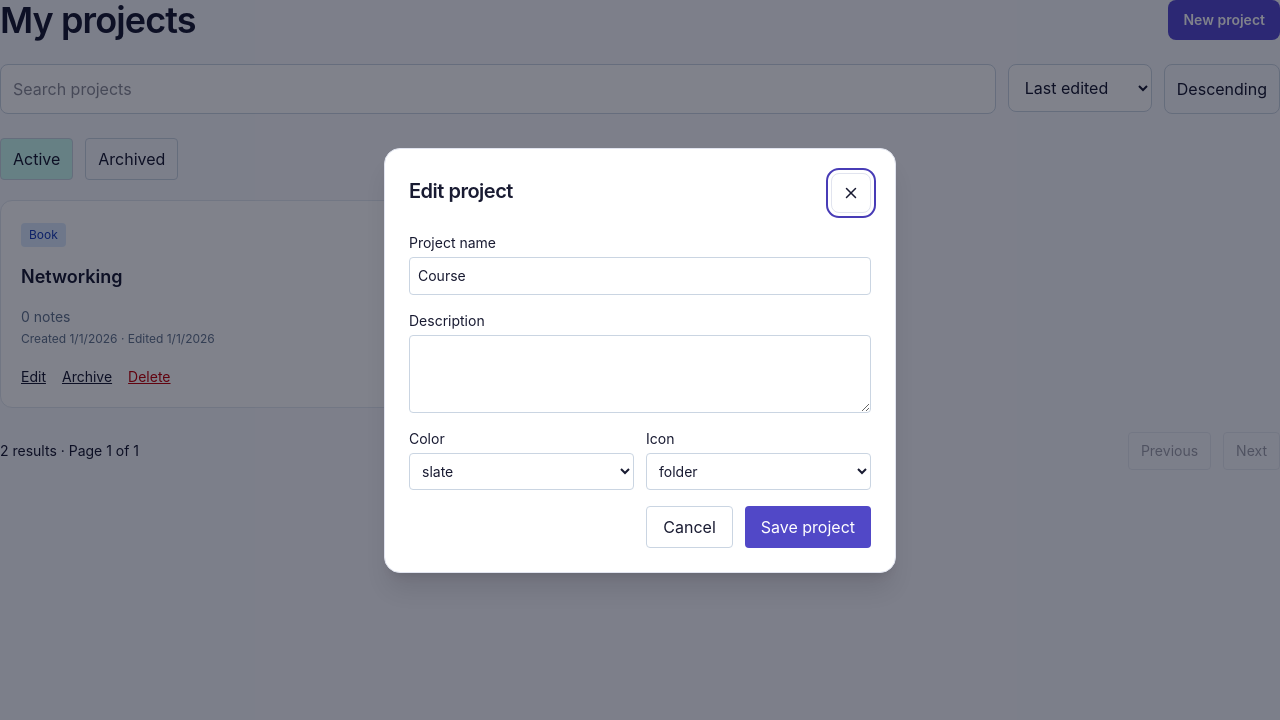
Test: creates and edits projects with cache invalidation, then archives and restores
This screenshot has width=1280, height=720.
Earlier steps of the test are not shown.
Replace the text in the field labelled "Project name" with "Renamed course": (640, 276) [409,256,871,294]
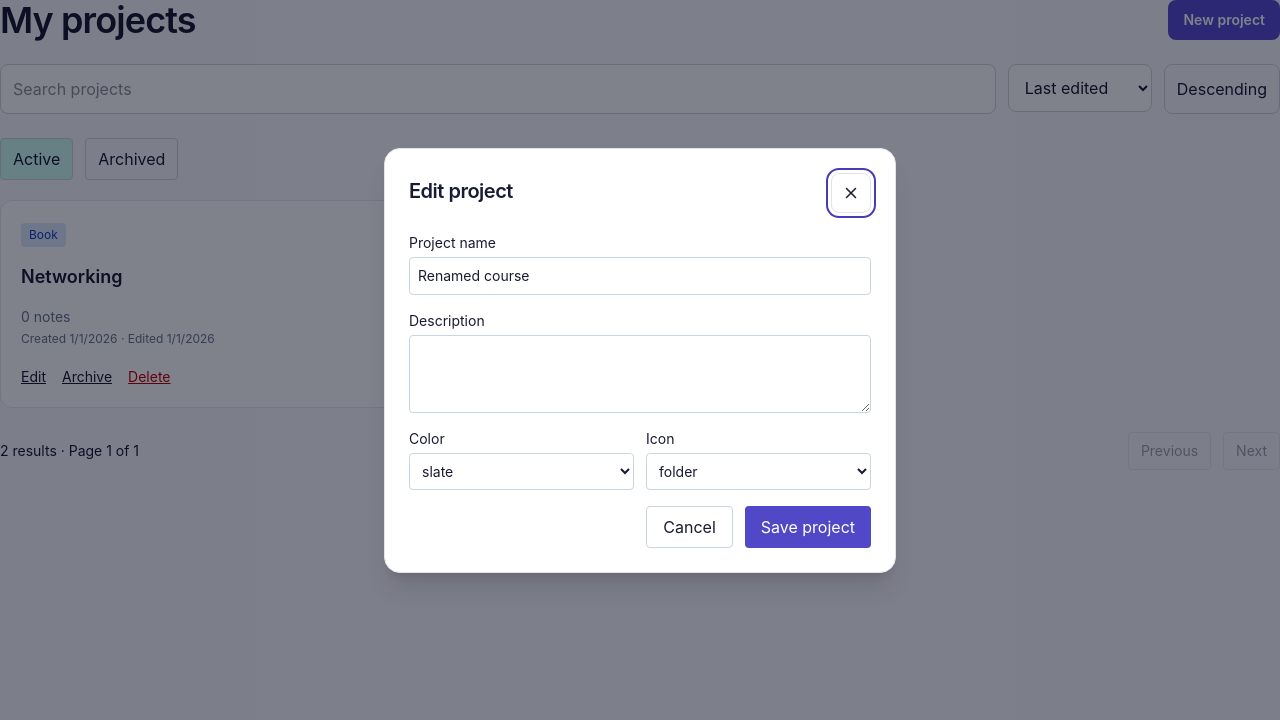
Click the button "Save project": (808, 526) [745,506,871,548]
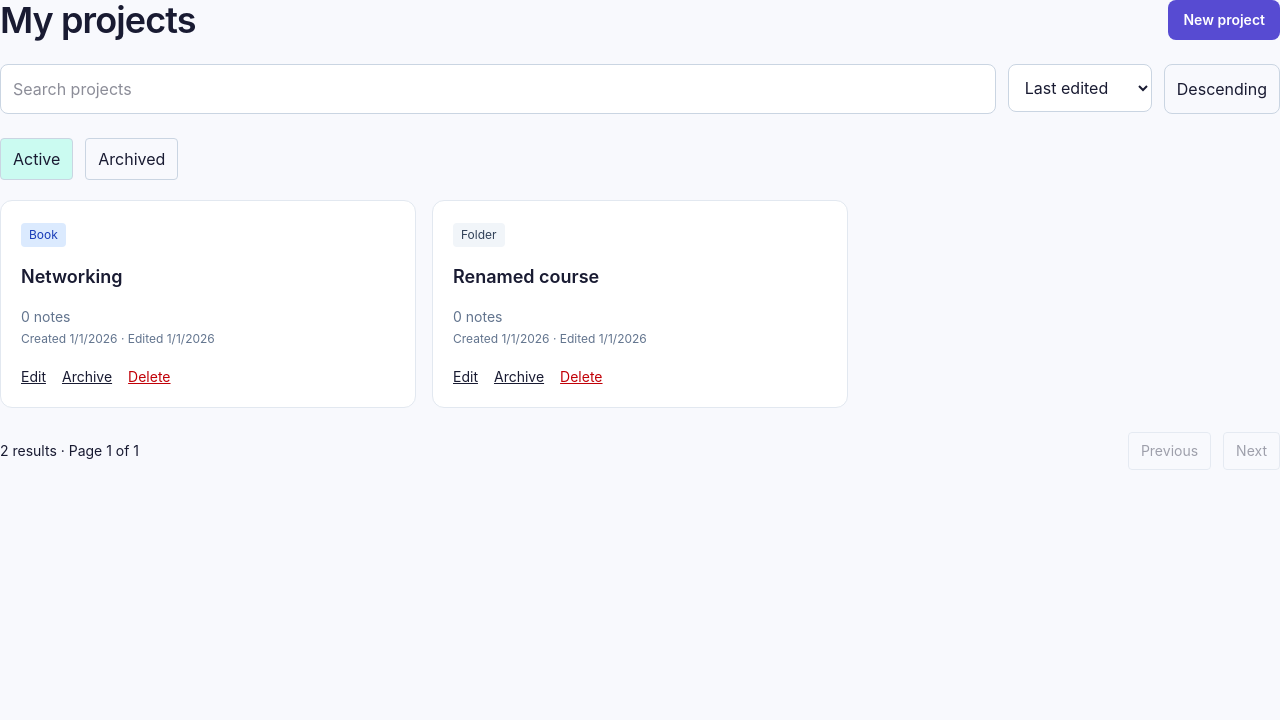
Click the button "Archive" below "Renamed course": (519, 377) [494,367,544,387]
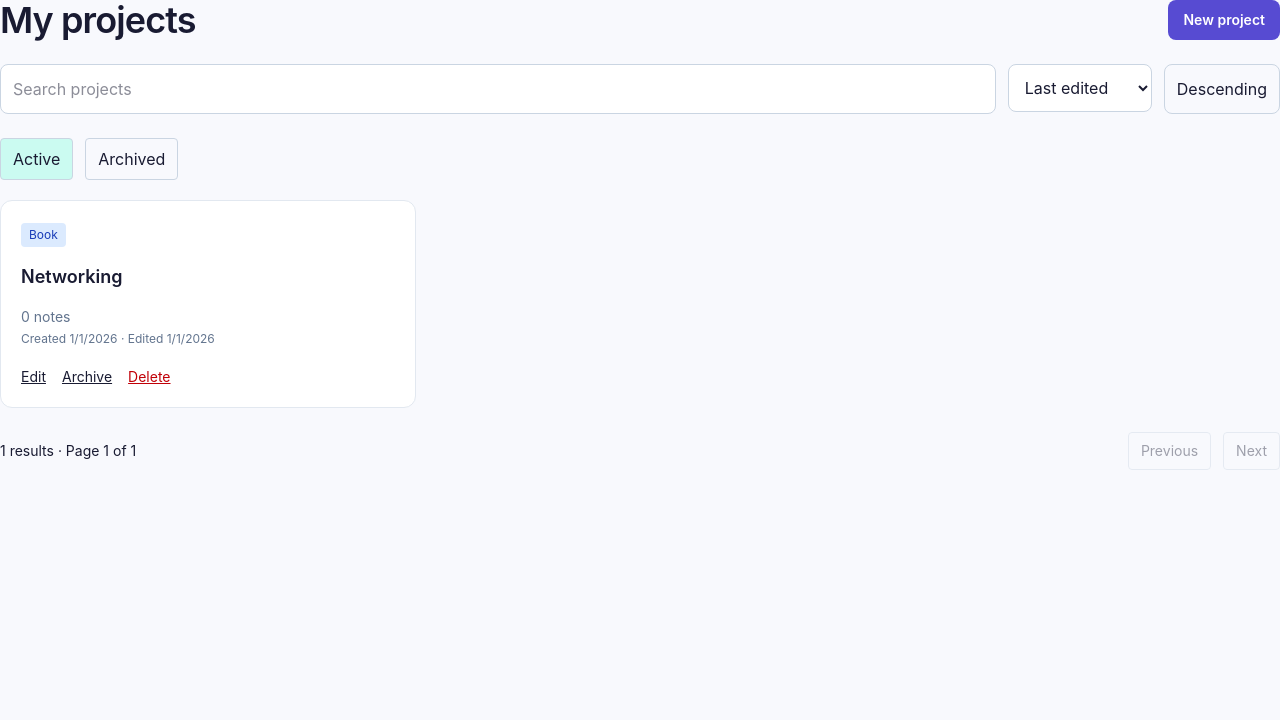
Check: the link "Renamed course" is gone
Click the button "Archived": (132, 159) [85,138,178,180]
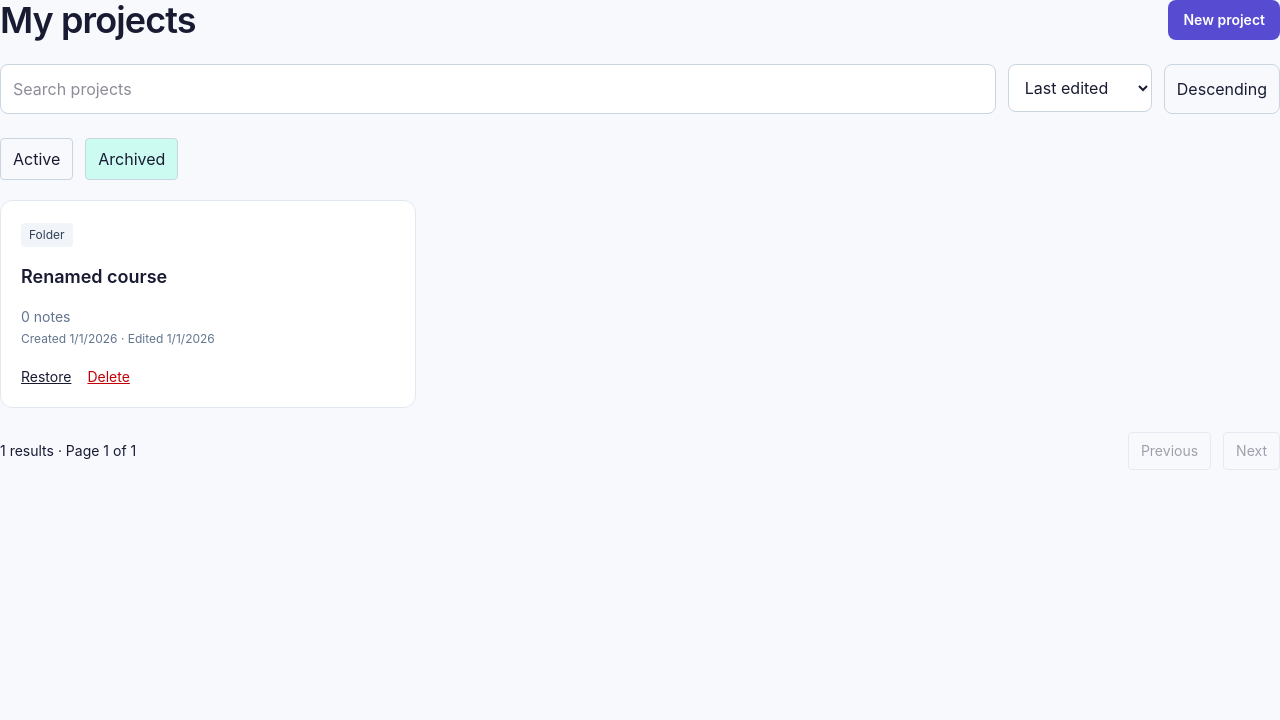
Click the button "Restore": (46, 377) [21,367,71,387]
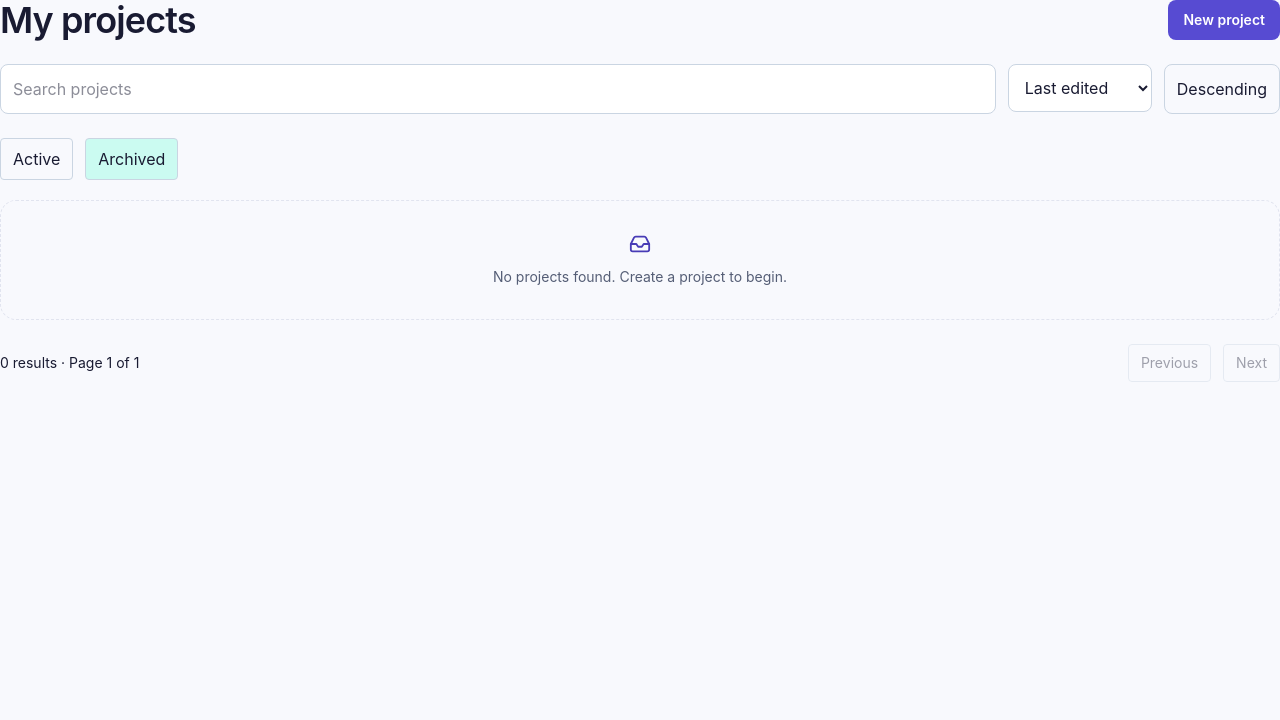
Check: the link "Renamed course" is gone
Click the button "Active": (37, 159) [0,138,73,180]
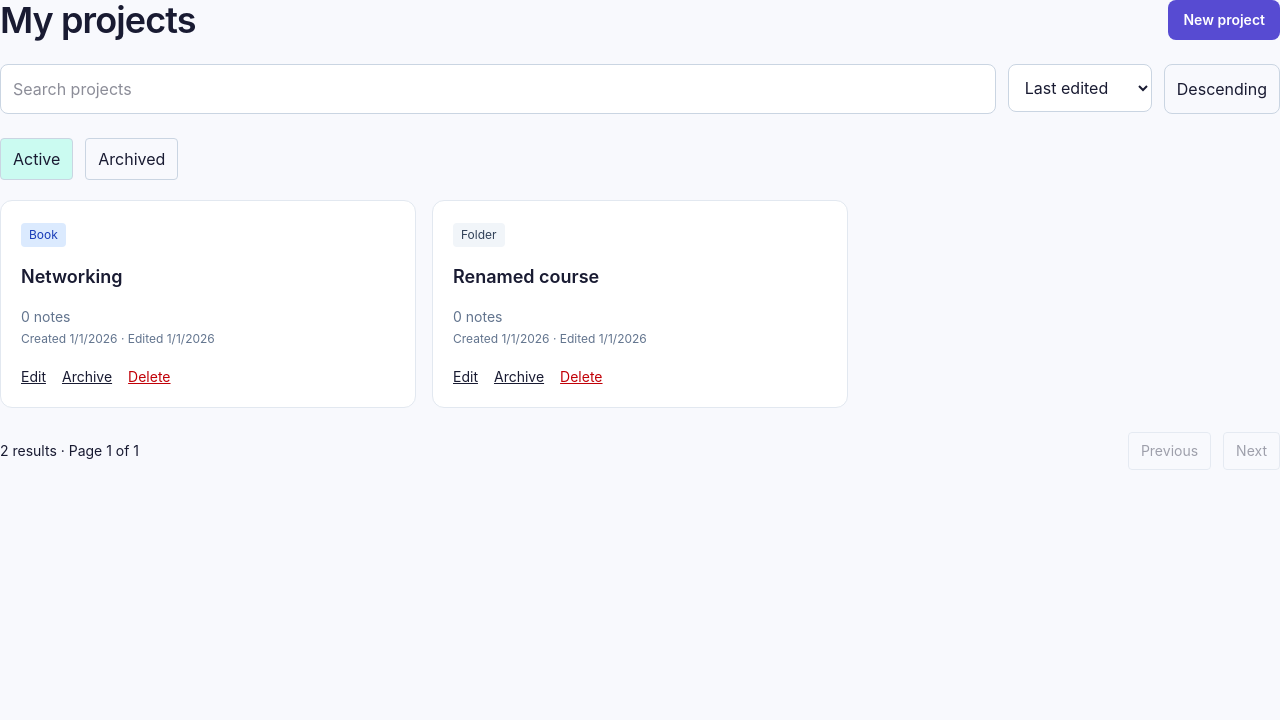
Check: the heading "Renamed course" is shown, box [453,266,599,287]
